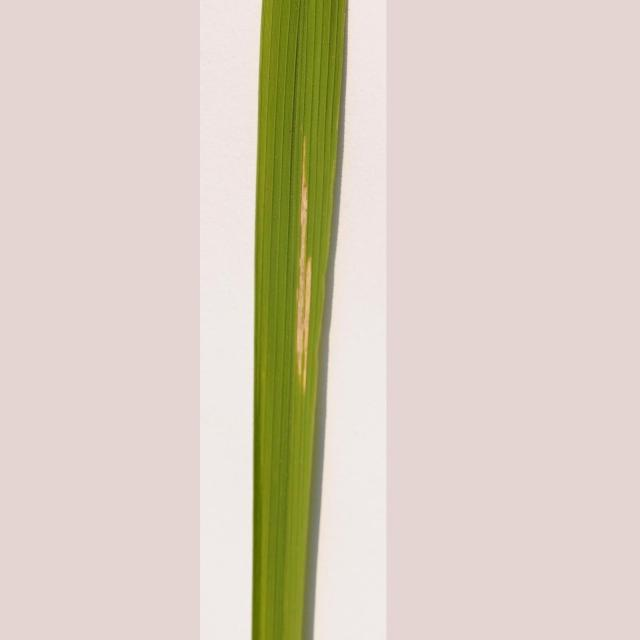Bacterial leaf blight: (202, 0, 388, 640)
